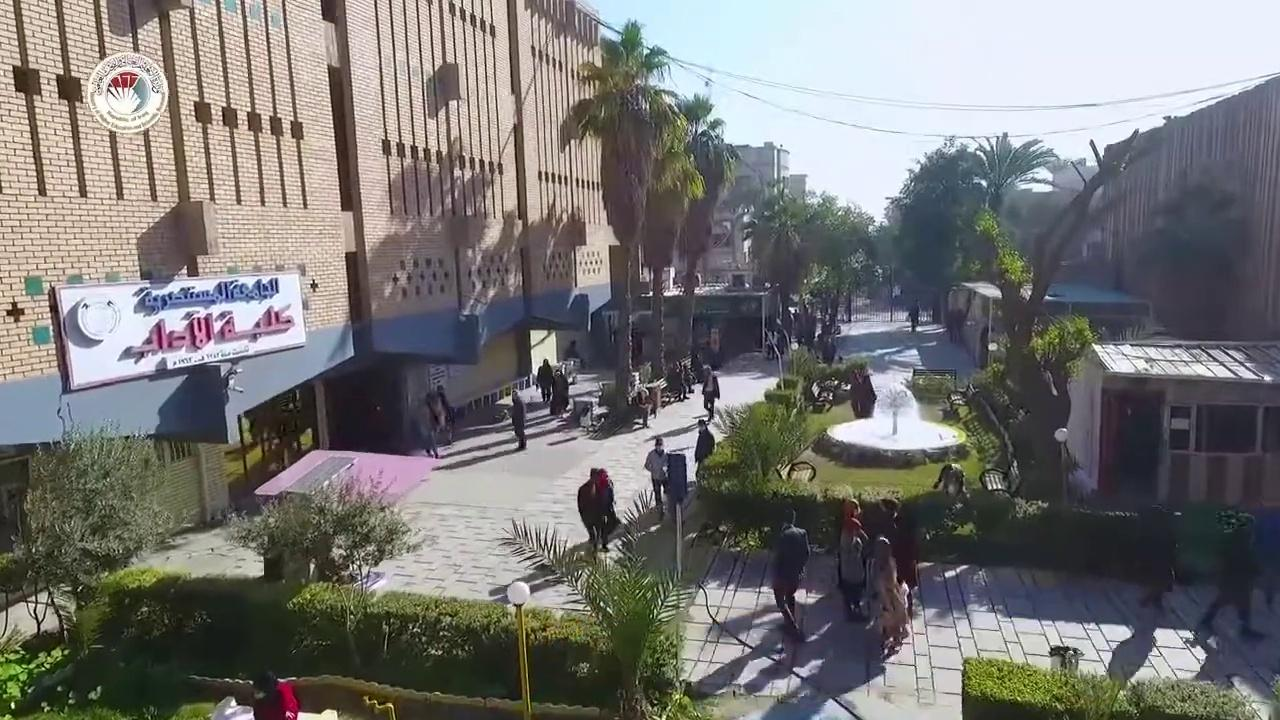fountain: (816, 378, 966, 466)
person: (1197, 508, 1266, 640), (768, 507, 810, 630), (1135, 503, 1179, 609), (577, 467, 615, 552), (251, 669, 299, 719), (643, 436, 669, 517), (693, 419, 715, 485), (423, 392, 443, 458), (435, 383, 455, 445), (508, 389, 527, 449), (907, 298, 920, 333)
tree: (949, 125, 1147, 497), (558, 17, 710, 411), (496, 487, 705, 718), (1, 401, 181, 652), (884, 130, 1059, 325), (640, 90, 739, 381), (227, 463, 426, 594), (694, 379, 828, 550), (1129, 158, 1249, 338), (954, 130, 1059, 288), (798, 192, 877, 360), (740, 178, 813, 348), (960, 130, 1059, 213), (1026, 309, 1099, 397)
